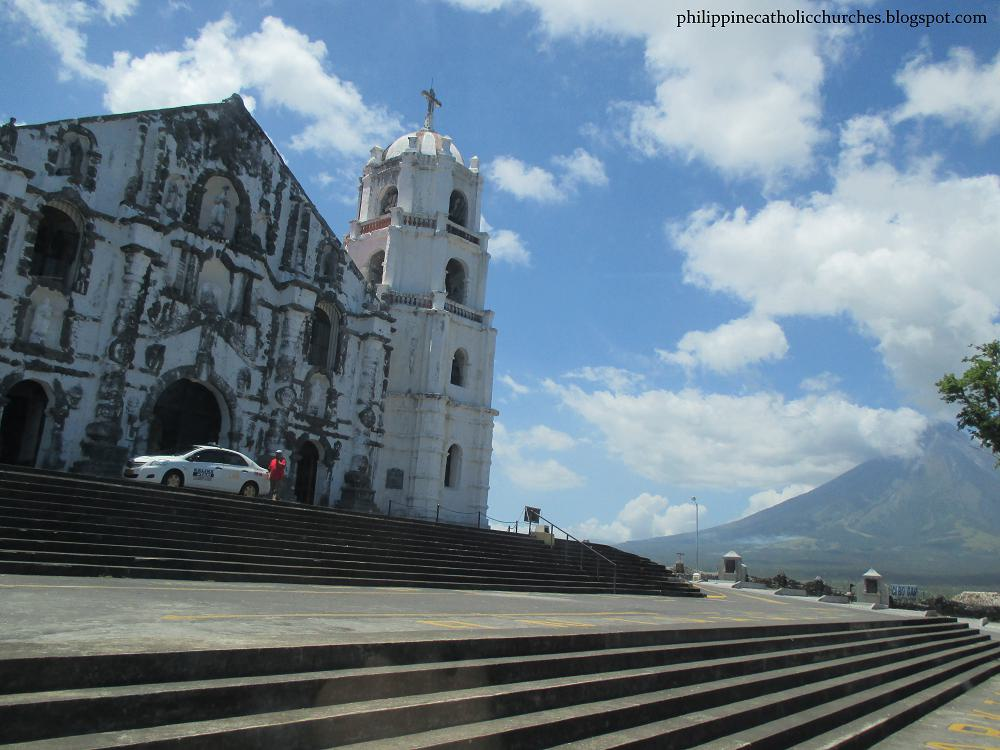daraga_church_daraga_albay: (1, 68, 504, 530)
